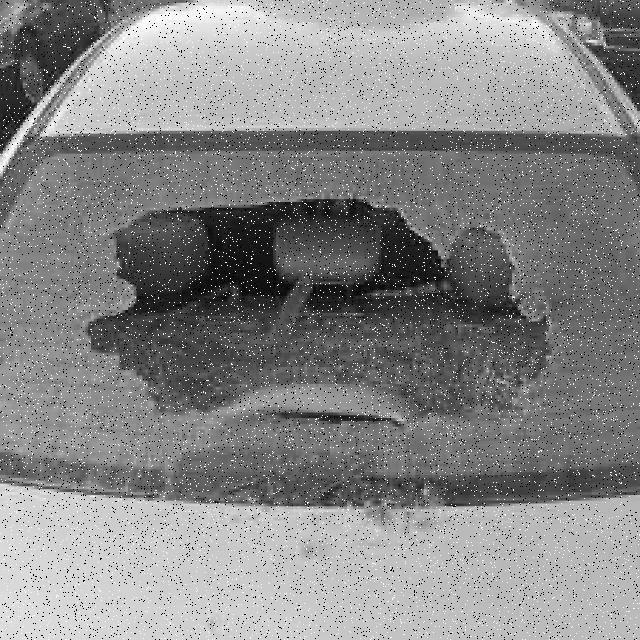Rear-windscreen-Damage: (0, 111, 636, 554)
